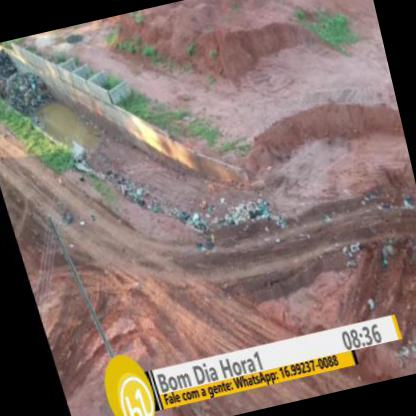agua: (41, 102, 82, 142)
lixo: (185, 183, 275, 244), (10, 75, 49, 114)
